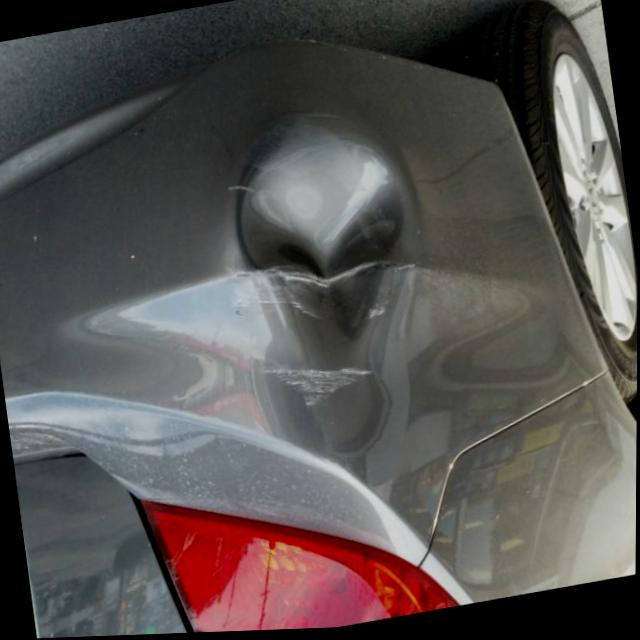Dent: (230, 122, 429, 349)
Scratch: (230, 255, 432, 328), (254, 360, 381, 399)
